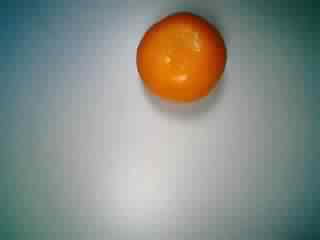orange: (133, 8, 231, 107)
